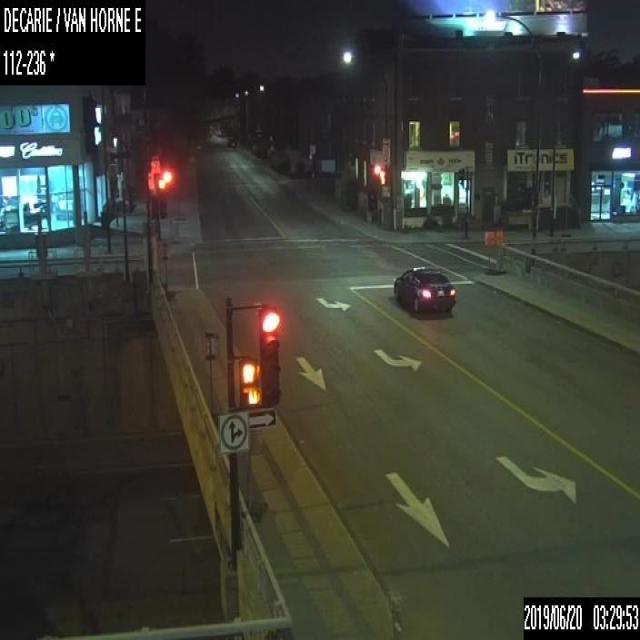construction: (198, 330, 221, 424), (244, 427, 266, 520), (158, 237, 175, 300), (482, 228, 494, 274), (494, 228, 504, 274)
vehicle: (393, 265, 455, 312)
